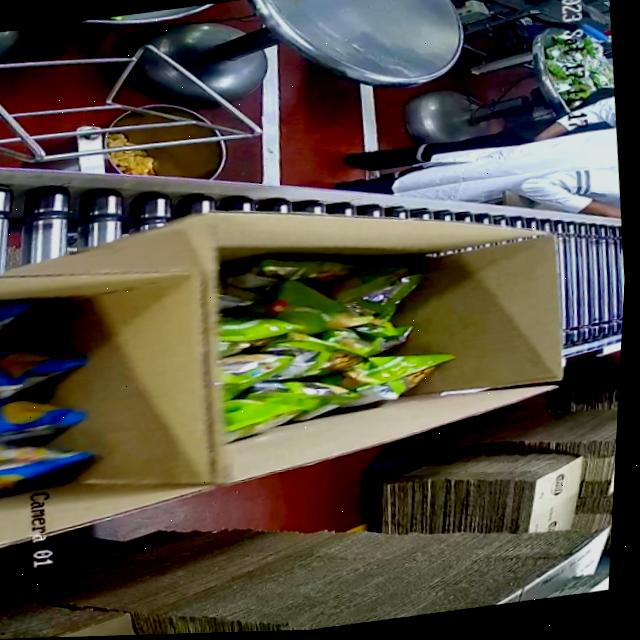PAPRIKA: (0, 288, 113, 501)
